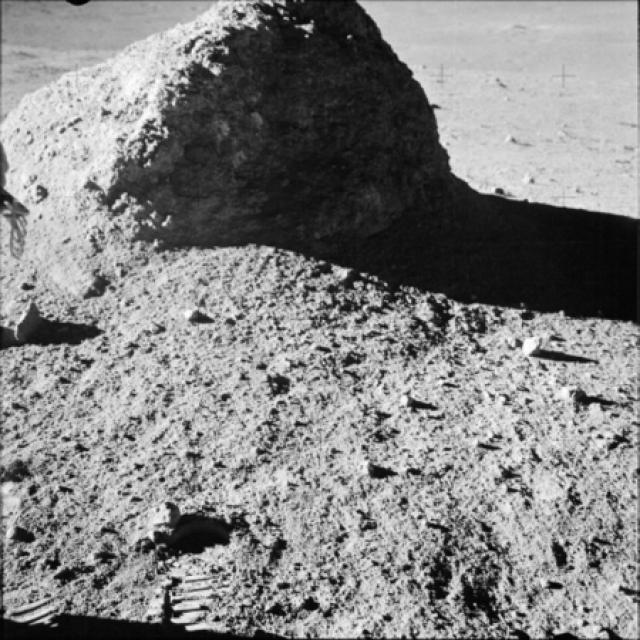rock: (0, 0, 450, 308), (0, 306, 66, 338)
